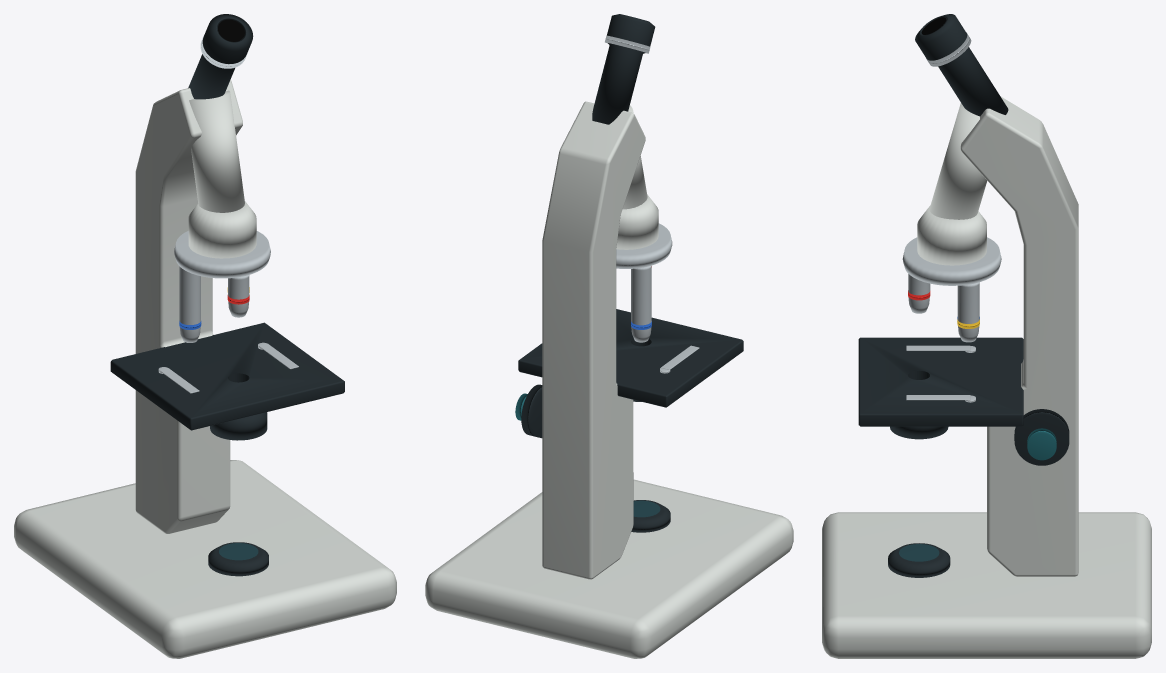
File: VLAB_microscope.fbx
3 renders of one model, left to right at view 1: azimuth 30°, elevation 25°; view 2: azimuth 150°, elevation 25°; view 3: azimuth 270°, elevation 25°, orthographic. The views are drawn at different scales.
Parts seen in each view (by area): view 1: VLAB_microscope_Base_VIS, VLAB_microscope_Arm_VIS, VLAB_microscope_Stage_VIS, VLAB_microscope_Eyepiece_VIS, VLAB_microscope_Turret_VIS, VLAB_microscope_Objectives_VIS; view 2: VLAB_microscope_Arm_VIS, VLAB_microscope_Base_VIS, VLAB_microscope_Stage_VIS, VLAB_microscope_Eyepiece_VIS, VLAB_microscope_Objectives_VIS, VLAB_microscope_Turret_VIS, VLAB_microscope_Coarse_VIS; view 3: VLAB_microscope_Base_VIS, VLAB_microscope_Arm_VIS, VLAB_microscope_Stage_VIS, VLAB_microscope_Eyepiece_VIS, VLAB_microscope_Turret_VIS, VLAB_microscope_Objectives_VIS, VLAB_microscope_Coarse_VIS, VLAB_microscope_Fine_VIS.
Boxes of the visible parts, x1,y1,x2,y2 form: VLAB_microscope_Base_VIS: (14, 460, 396, 658); VLAB_microscope_Arm_VIS: (135, 80, 256, 533); VLAB_microscope_Stage_VIS: (110, 322, 344, 440); VLAB_microscope_Eyepiece_VIS: (188, 14, 253, 99); VLAB_microscope_Turret_VIS: (174, 231, 270, 278); VLAB_microscope_Objectives_VIS: (179, 266, 249, 342); VLAB_microscope_Arm_VIS: (542, 101, 658, 579); VLAB_microscope_Base_VIS: (425, 479, 793, 658); VLAB_microscope_Stage_VIS: (518, 309, 743, 407); VLAB_microscope_Eyepiece_VIS: (592, 14, 655, 124); VLAB_microscope_Objectives_VIS: (631, 265, 651, 342); VLAB_microscope_Turret_VIS: (616, 223, 672, 268); VLAB_microscope_Coarse_VIS: (521, 384, 542, 438); VLAB_microscope_Base_VIS: (822, 512, 1151, 658); VLAB_microscope_Arm_VIS: (917, 96, 1078, 576); VLAB_microscope_Stage_VIS: (858, 337, 1023, 439); VLAB_microscope_Eyepiece_VIS: (915, 14, 1008, 116); VLAB_microscope_Turret_VIS: (902, 237, 1001, 285); VLAB_microscope_Objectives_VIS: (908, 274, 979, 342); VLAB_microscope_Coarse_VIS: (1014, 409, 1069, 465); VLAB_microscope_Fine_VIS: (1027, 428, 1056, 460).
Size of the model in its own units: 0.15 by 0.3542 by 0.18.
